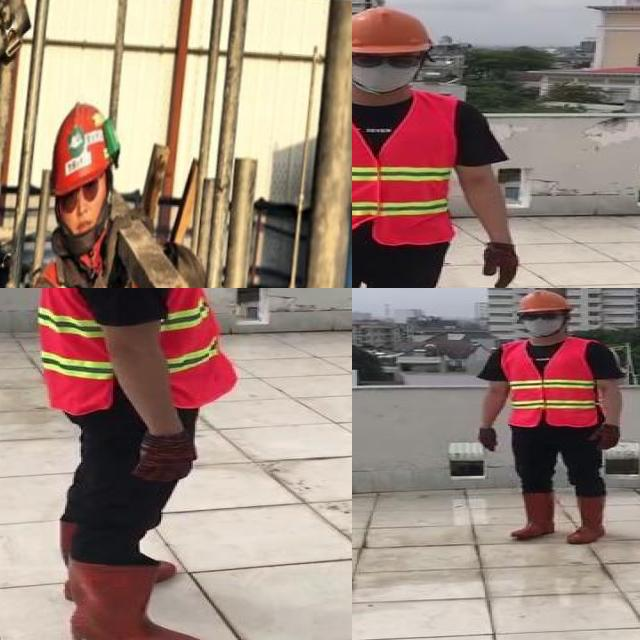boots: (70, 559, 221, 640), (512, 494, 558, 541), (565, 495, 608, 544)
face_mask: (352, 46, 428, 91), (521, 310, 566, 336)
glasses: (352, 47, 432, 73), (520, 311, 564, 323)
hand_glove: (134, 433, 197, 482), (482, 242, 517, 288), (586, 425, 620, 450), (476, 428, 501, 453)
head_helmet: (352, 6, 435, 55), (514, 290, 572, 312)
person: (10, 288, 268, 640), (352, 5, 531, 288), (474, 288, 630, 547)
vest: (36, 288, 232, 412), (352, 93, 454, 244), (501, 340, 604, 428)
